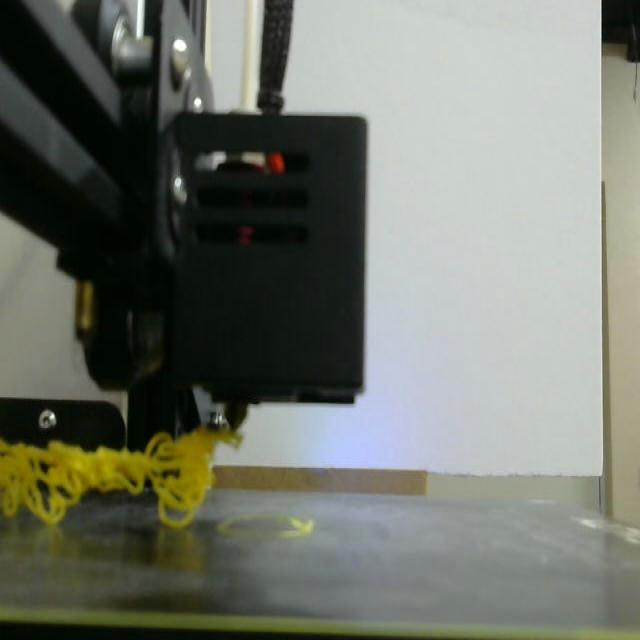spaghetti: (0, 427, 241, 528)
